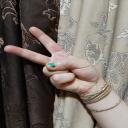PeaceSign: (3, 24, 101, 98)
